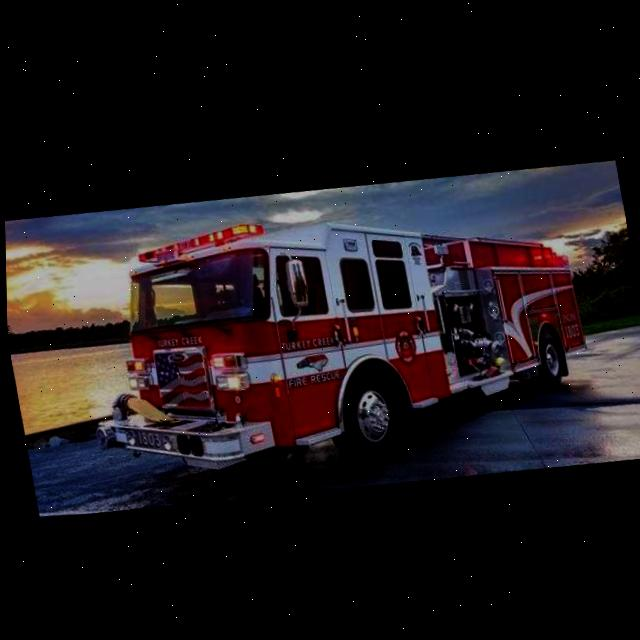emergency: (56, 160, 603, 509)
